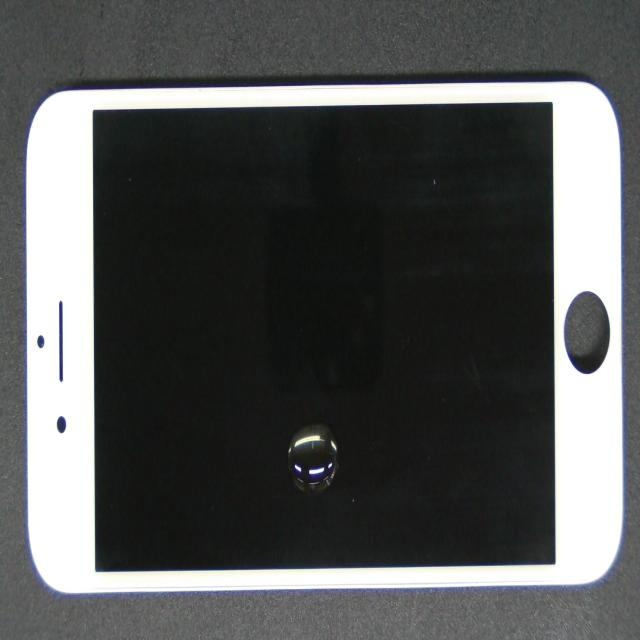oil: (174, 242, 508, 640)
